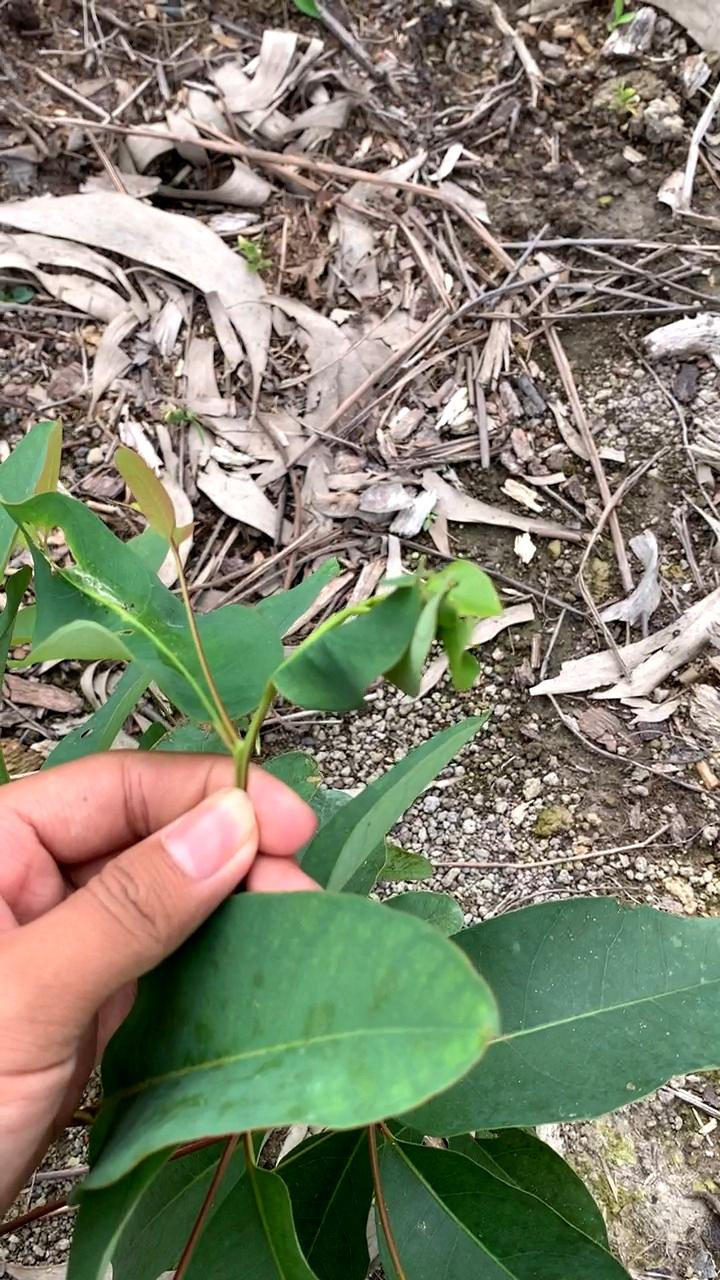Leaf Roller - Leaf: (259, 558, 515, 744)
